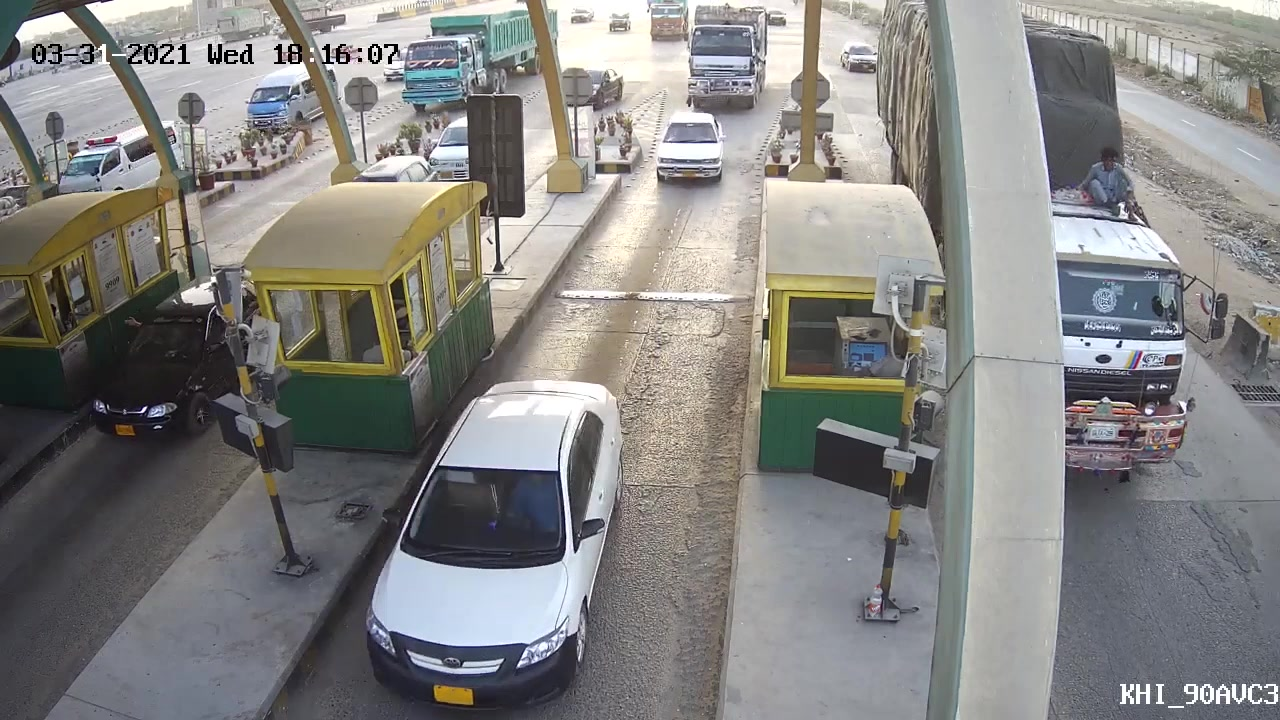F1: (348, 369, 635, 716)
